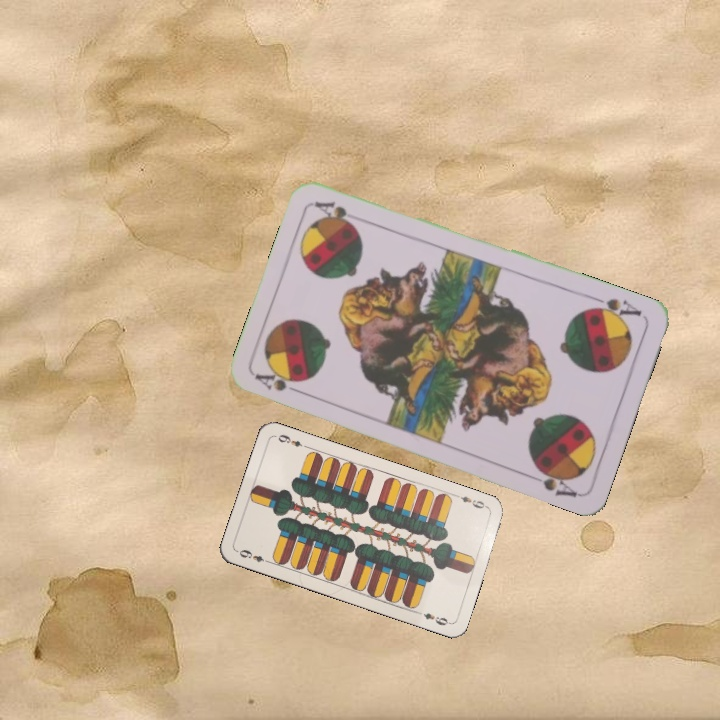E9: (233, 545, 273, 566), (451, 491, 491, 511)
SA: (584, 292, 645, 325), (251, 367, 309, 398)
